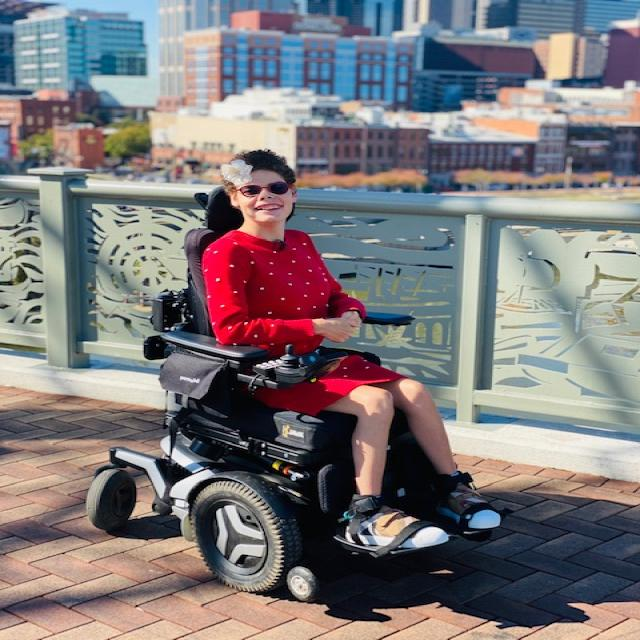wheelchairs: (64, 167, 564, 636)
